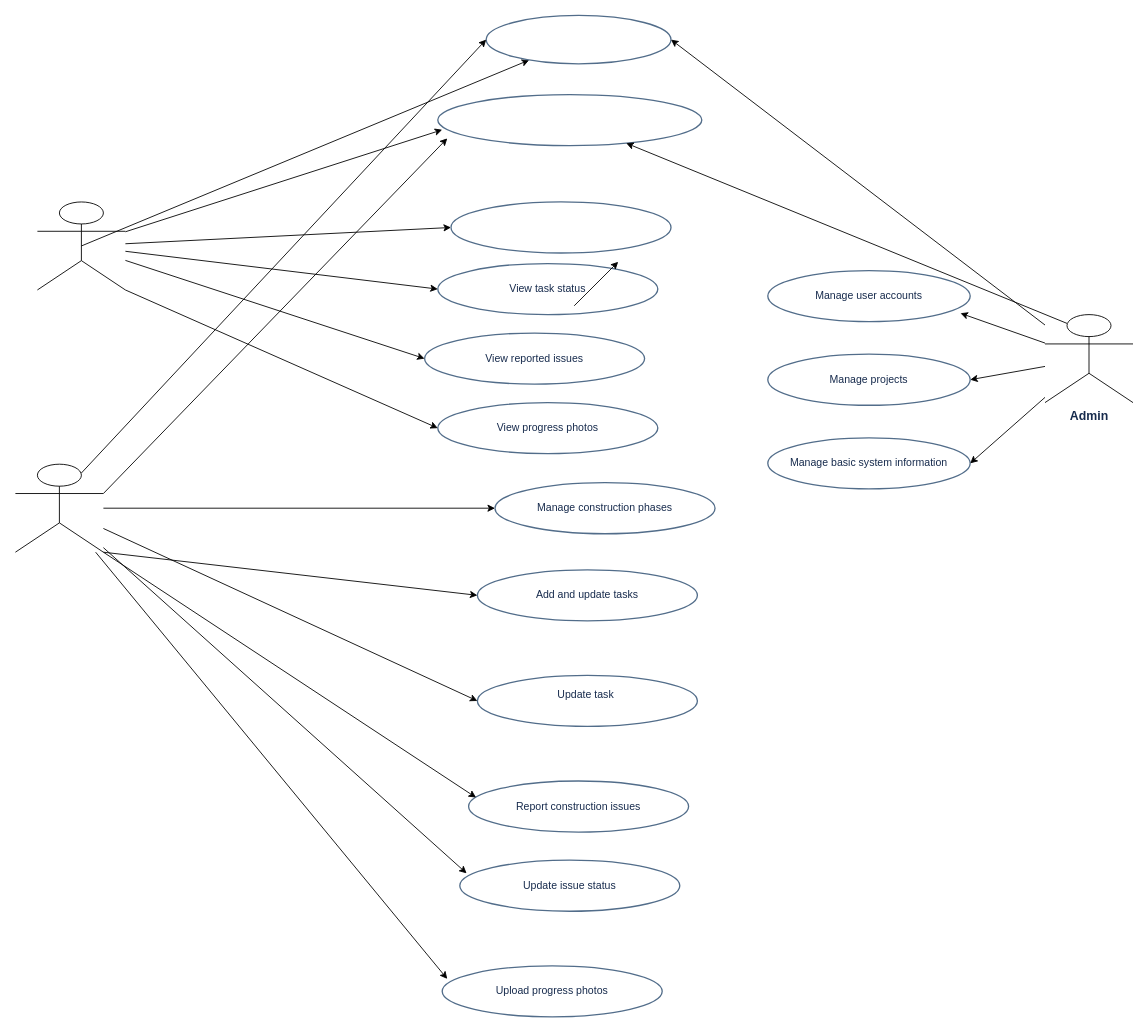
Some shapes in this 1148 by 1033 pixel diagram are drawn without their labels. The box of each missing label's shape, as (x1, y1, x2, y2) in pixels:
Access role-specific dashboard: (437, 94, 702, 146)
Homeowner: (37, 201, 125, 290)
Log in: (485, 14, 671, 64)
Supervisor: (15, 463, 103, 552)
View overall project progress: (450, 201, 671, 253)
